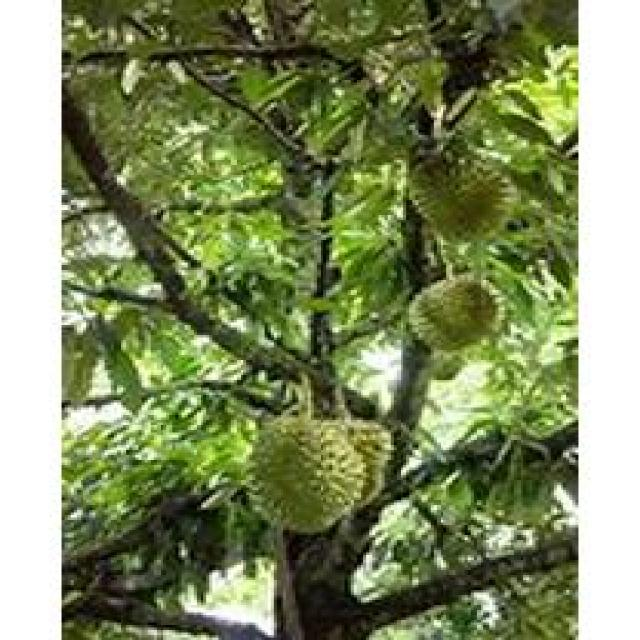fruit: (234, 390, 397, 550), (403, 122, 517, 248), (403, 275, 508, 360)
